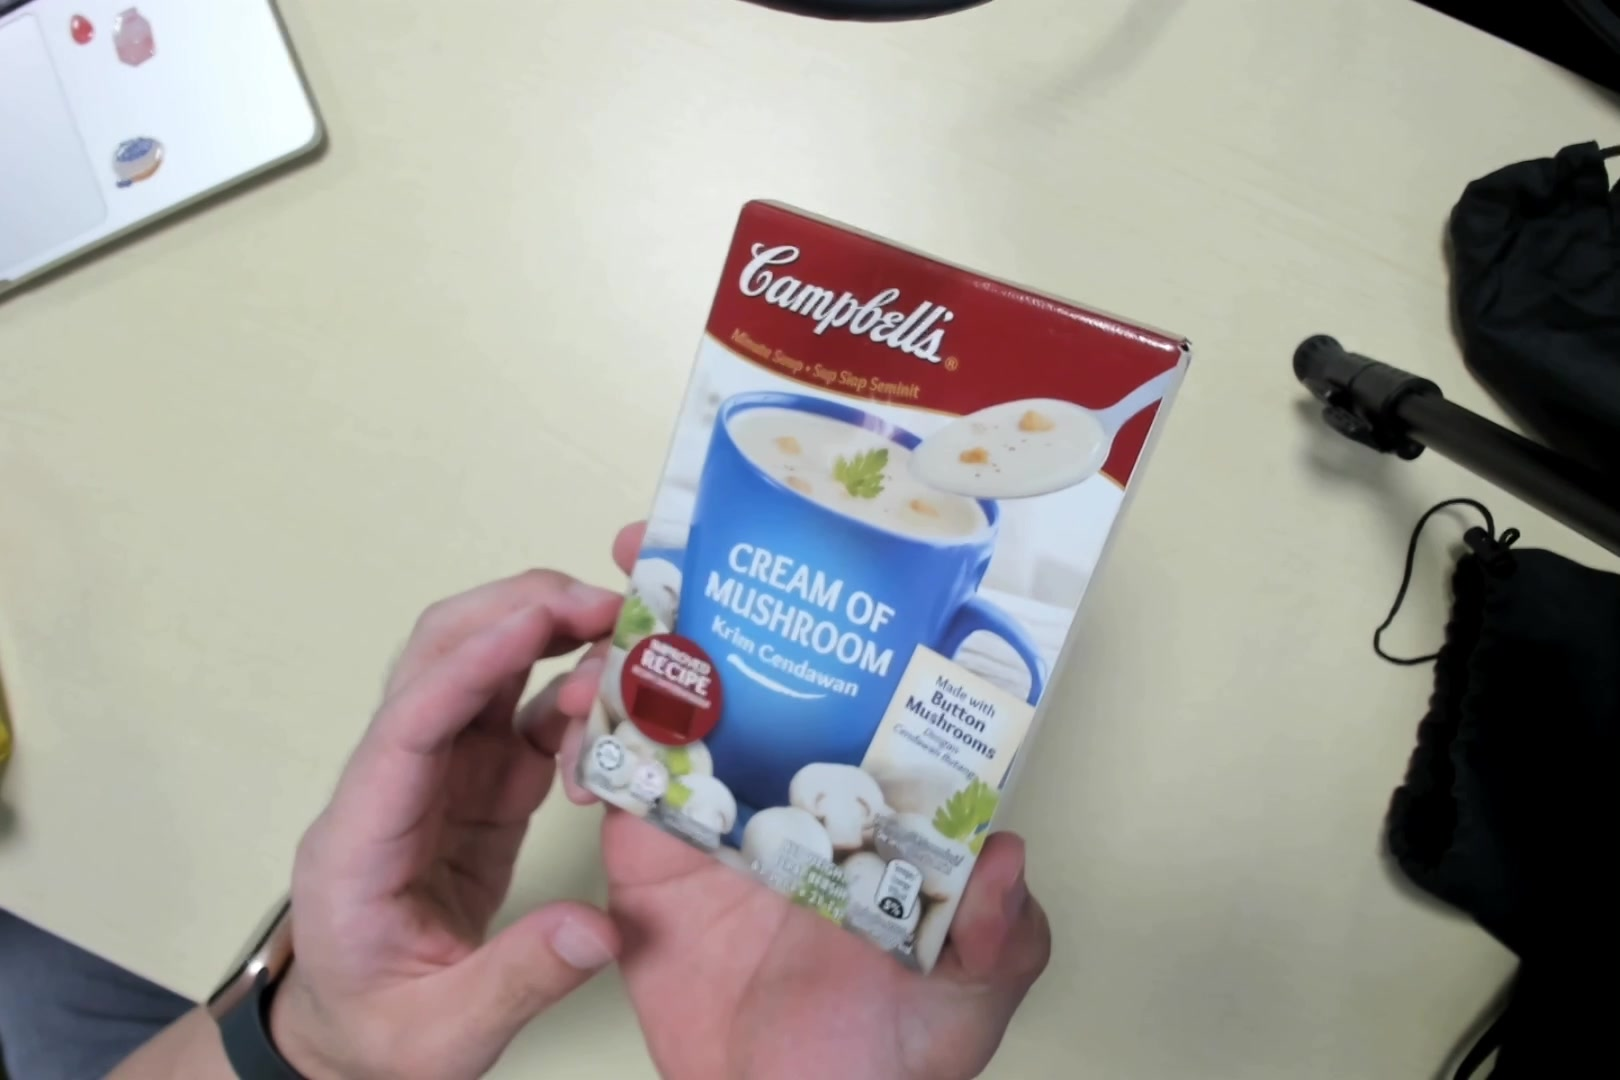InstantMeals_0-99g_Halal_NonHealthy: (585, 184, 1196, 979)
